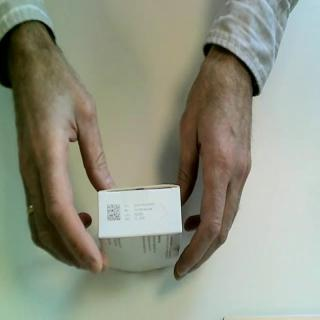dolcontin5mg: (97, 182, 185, 274)
